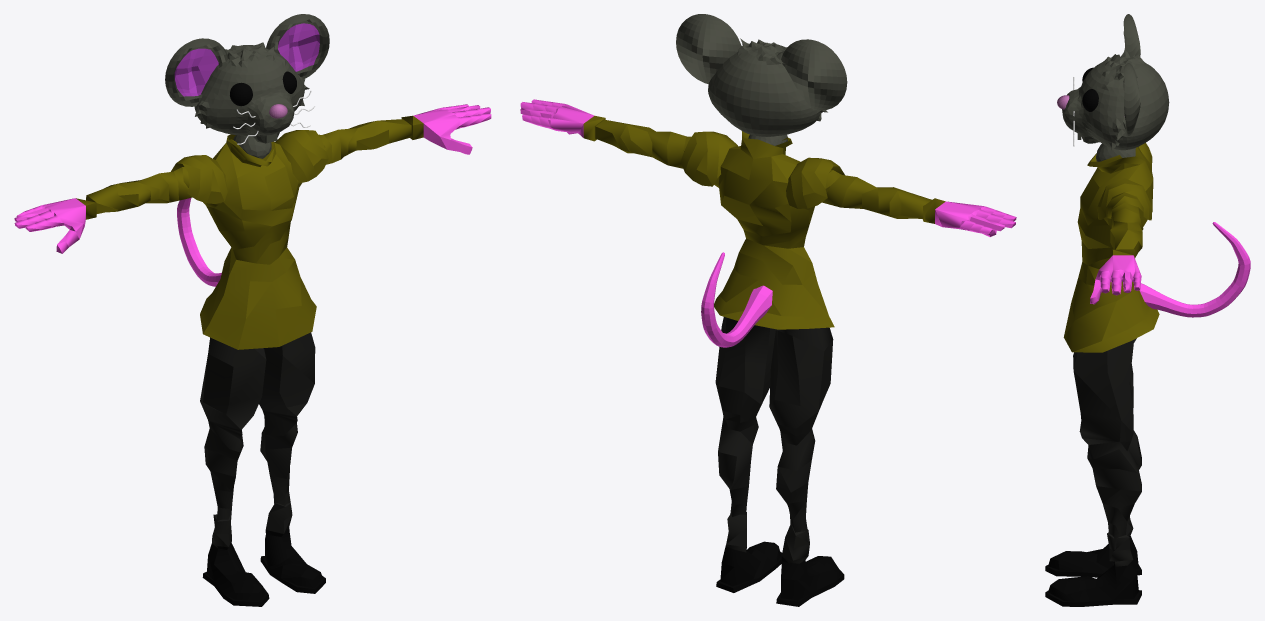
Rendered from mouseHuman1.obj.
3 renders of one model, left to right at view 1: azimuth 30°, elevation 25°; view 2: azimuth 150°, elevation 25°; view 3: azimuth 270°, elevation 25°, orthographic. The views are drawn at different scales.
Parts seen in each view (by area): view 1: humanFoolMar2Five, head, leftEar, rightEar, tail; view 2: humanFoolMar2Five, head, leftEar, rightEar, tail; view 3: humanFoolMar2Five, head, tail, rightEar, leftEar, Sphere.001, eyeRight.
Boxes of the visible parts, x1=… form: humanFoolMar2Five: x1=14, y1=104, x2=491, y2=606; head: x1=194, y1=42, x2=309, y2=143; leftEar: x1=165, y1=38, x2=228, y2=106; rightEar: x1=266, y1=14, x2=329, y2=78; tail: x1=177, y1=198, x2=221, y2=286; humanFoolMar2Five: x1=520, y1=99, x2=1016, y2=606; head: x1=708, y1=38, x2=827, y2=136; leftEar: x1=781, y1=39, x2=847, y2=110; rightEar: x1=676, y1=14, x2=741, y2=84; tail: x1=701, y1=252, x2=772, y2=347; humanFoolMar2Five: x1=1045, y1=143, x2=1159, y2=606; head: x1=1062, y1=50, x2=1169, y2=150; tail: x1=1139, y1=222, x2=1250, y2=317; rightEar: x1=1123, y1=63, x2=1140, y2=135; leftEar: x1=1123, y1=14, x2=1140, y2=57; Sphere.001: x1=1096, y1=143, x2=1135, y2=161; eyeRight: x1=1082, y1=89, x2=1098, y2=111.
Bounding box in the file's own units: 24.89 × 27.28 × 9.35.
